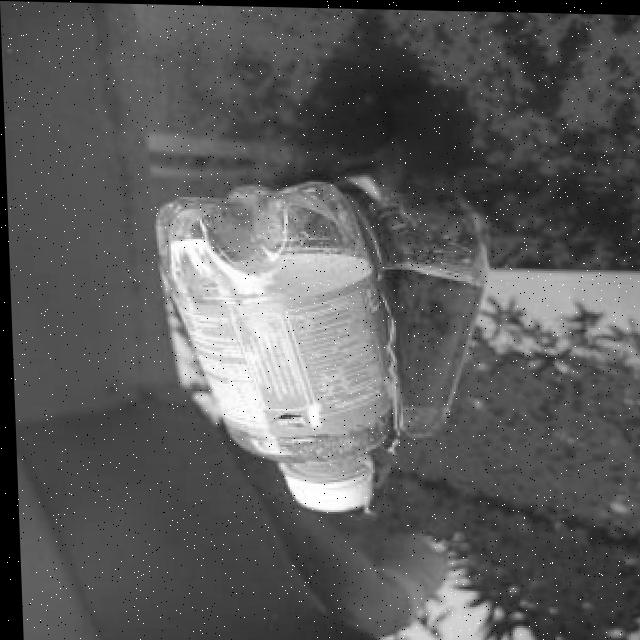bottle: (144, 172, 400, 515)
